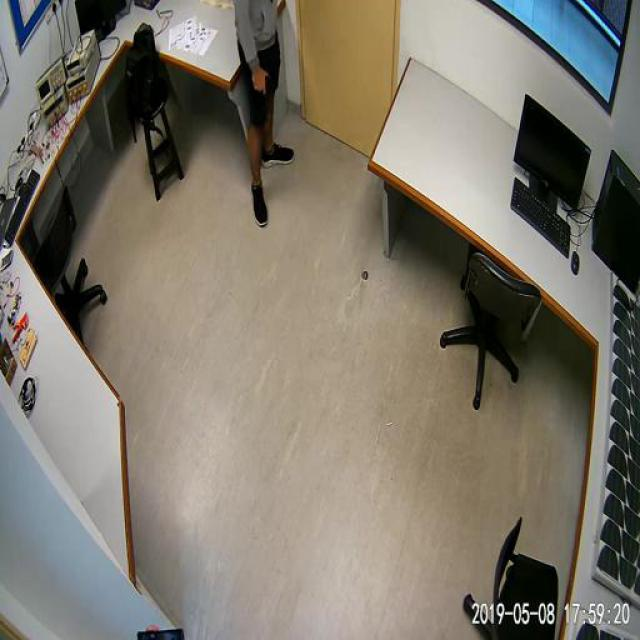Gun: (250, 68, 271, 122)
